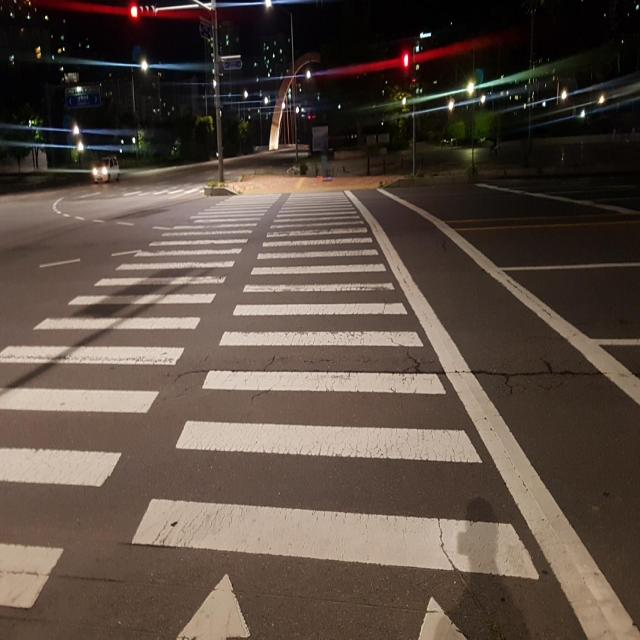빨간불: (400, 50, 412, 91)
횡단보도: (0, 184, 544, 639)
